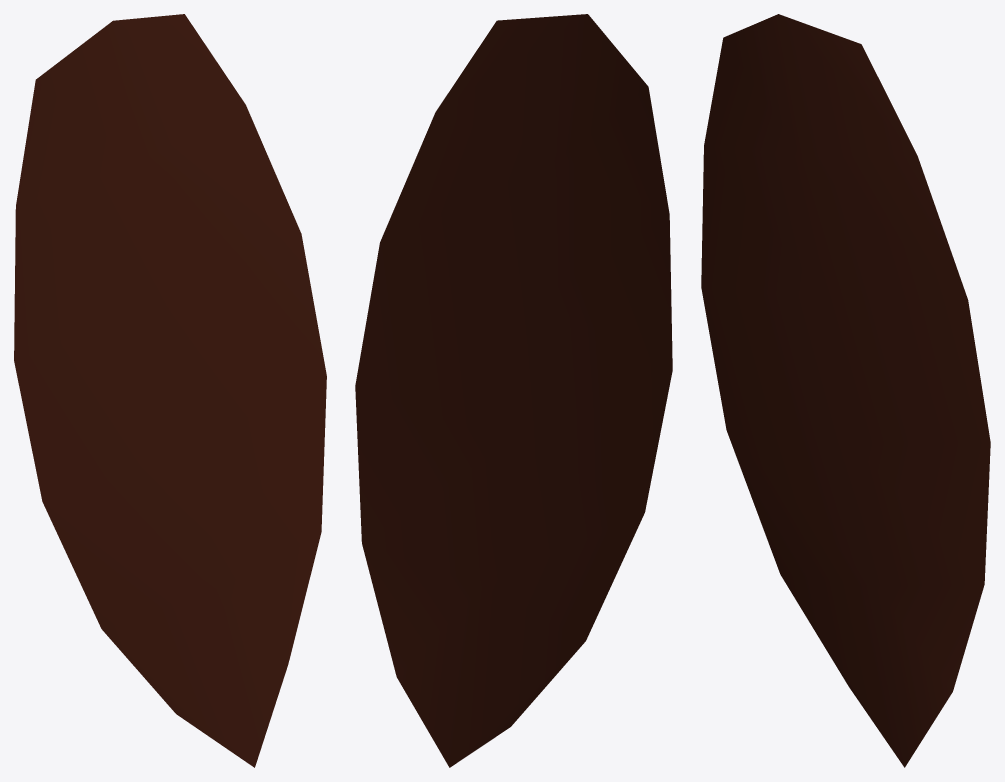
File: rooster_feather_flight_tertiary_019.obj
3 renders of one model, left to right at view 1: azimuth 30°, elevation 25°; view 2: azimuth 150°, elevation 25°; view 3: azimuth 330°, elevation 25°, orthographic. The views are drawn at different scales.
Parts seen in each view (by area): view 1: feather_flight_tertiary_019; view 2: feather_flight_tertiary_019; view 3: feather_flight_tertiary_019.
Part boxes in pixels (x1,y1,x2,y2): feather_flight_tertiary_019: [14, 14, 326, 767]; feather_flight_tertiary_019: [355, 14, 672, 767]; feather_flight_tertiary_019: [701, 14, 990, 767].
Size of the model in its own units: 0.0101 by 0.024 by 0.000656.
